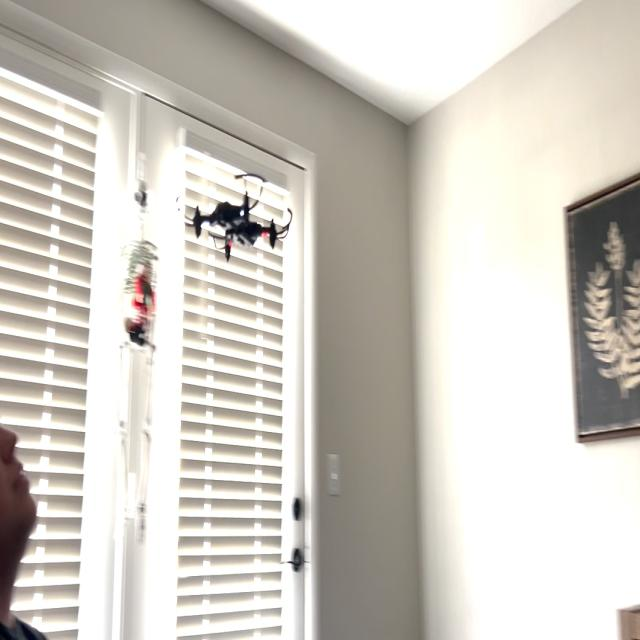drone: (170, 147, 304, 268)
